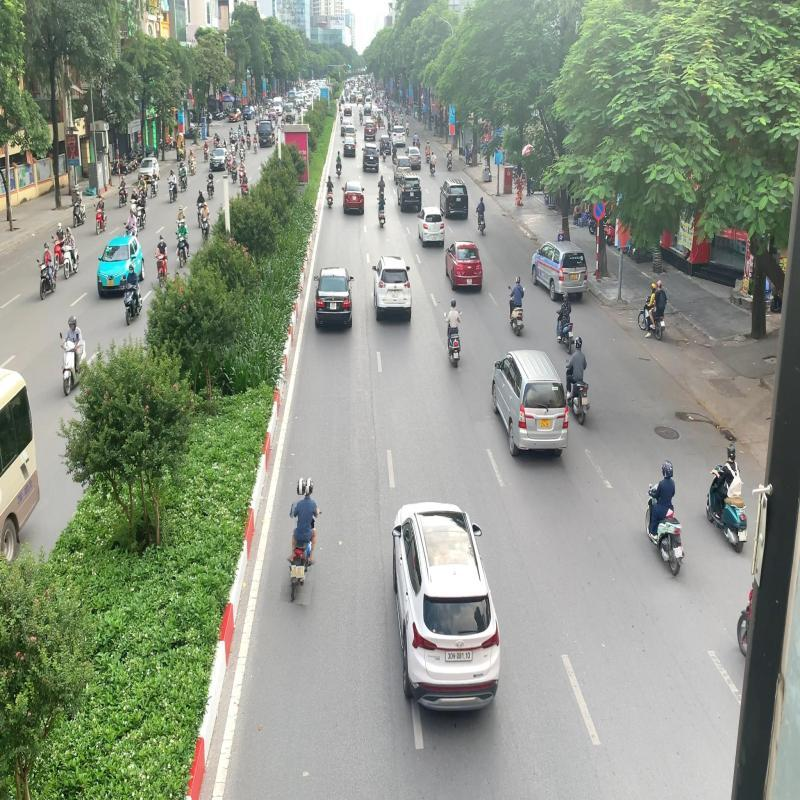helmet: (296, 476, 306, 495), (728, 444, 738, 459), (664, 461, 673, 477)
licenseplate: (674, 546, 683, 560), (738, 530, 748, 541), (296, 565, 304, 578)
motorcyclist: (284, 474, 323, 605), (644, 460, 686, 578), (706, 443, 748, 554)
